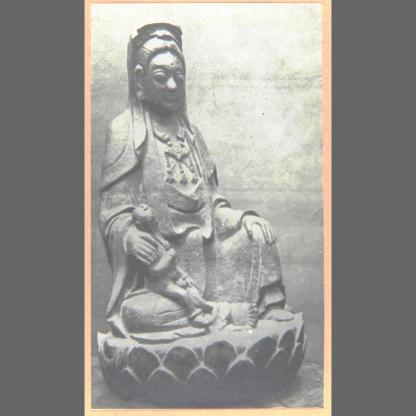buddha-sitting: (104, 19, 310, 379)
